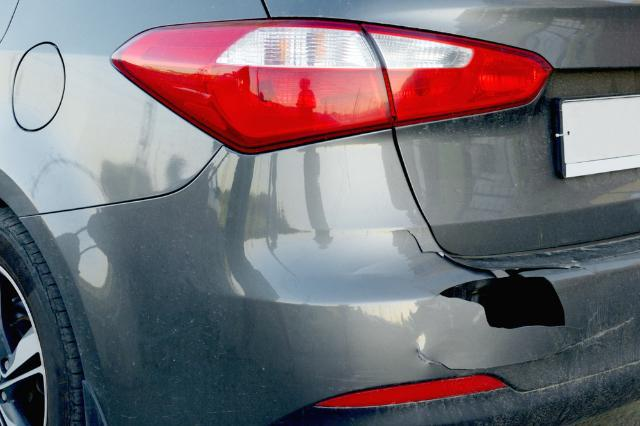crack: (406, 320, 630, 373)
no part: (405, 230, 590, 334)
